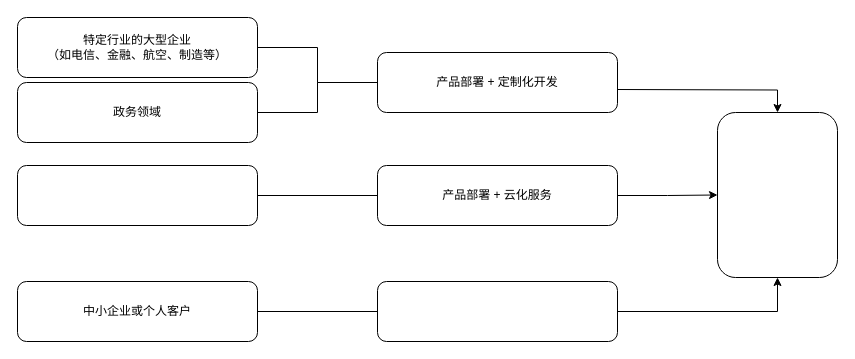
The diagram is 855 pixels wide and 359 high, and some of its shapes have lost their labels. Here are the shapes that lost their labels. From the top down, the box of each, then its label:
(16, 164, 258, 226): 各行业的大中型企业
(716, 112, 838, 278): 管理数据资产 掘金经济价值
(376, 280, 618, 342): SaaS/App
